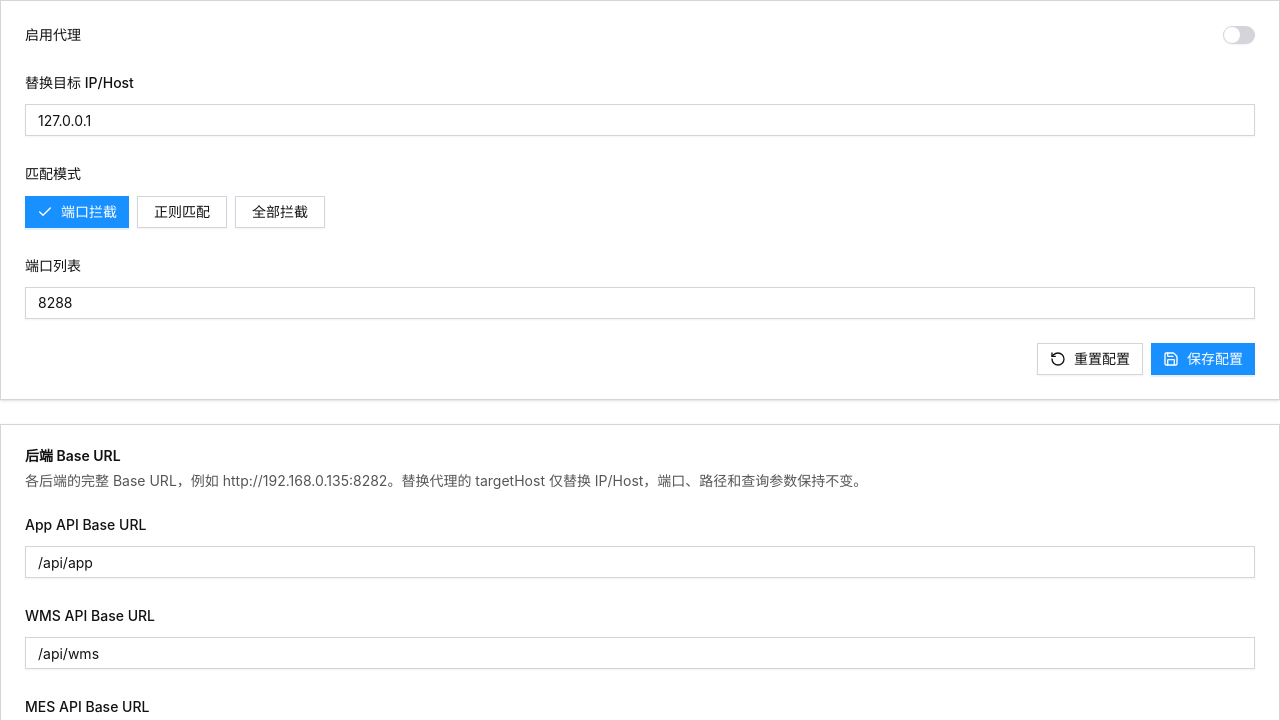
Test case: DebugIpRewriteProxyPage › enables save after all base URLs are changed to absolute HTTP(S) URLs
This screenshot has width=1280, height=720.
Click the switch named "启用代理".
click(1239, 35)  # box [1223,26,1255,44]
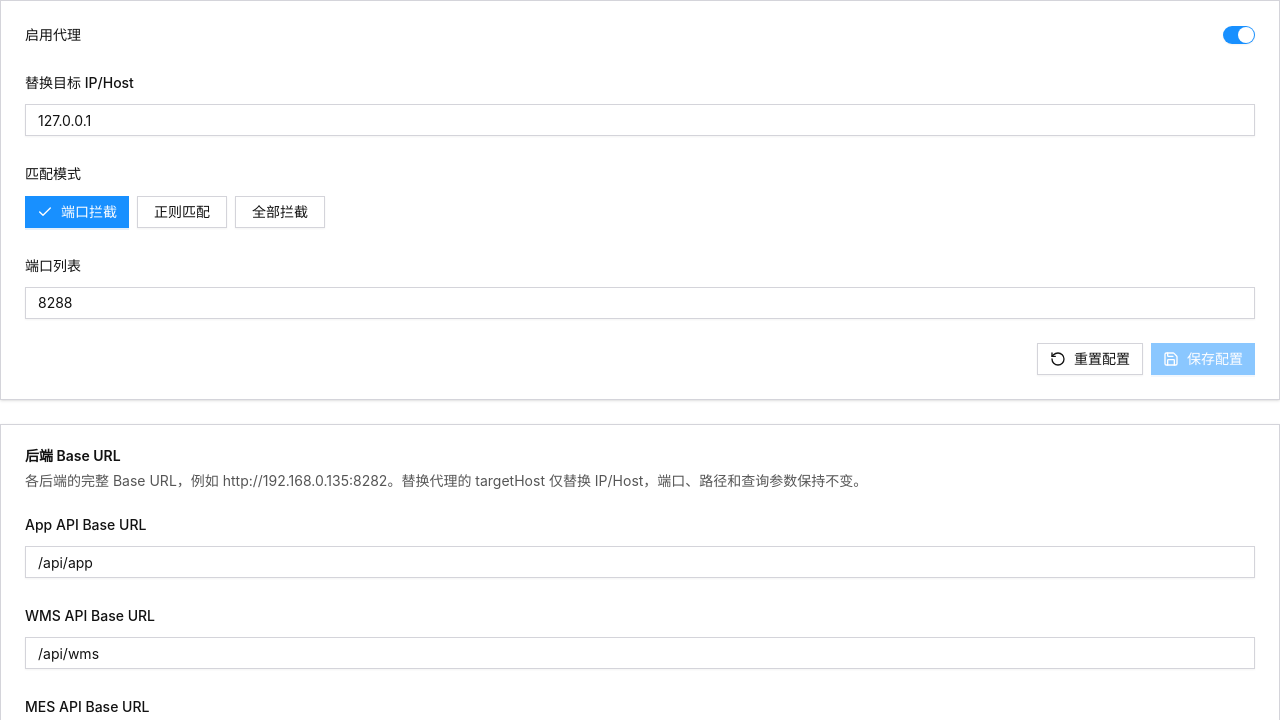
Replace the text in the field labelled "App API Base URL" with "http://192.168.0.135:8288" at (640, 562), box [25,546,1255,578]
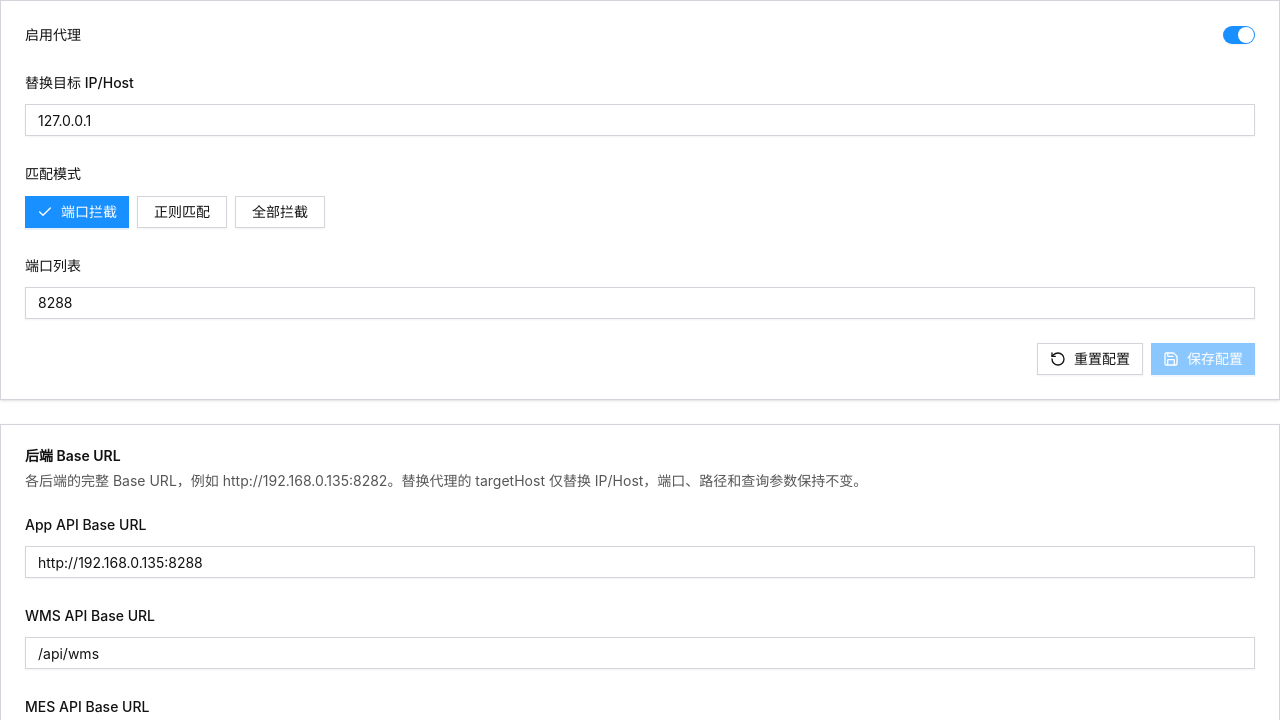
Replace the text in the field labelled "WMS API Base URL" with "http://192.168.0.135:8283" at (640, 653), box [25,637,1255,669]
(page scrolled)
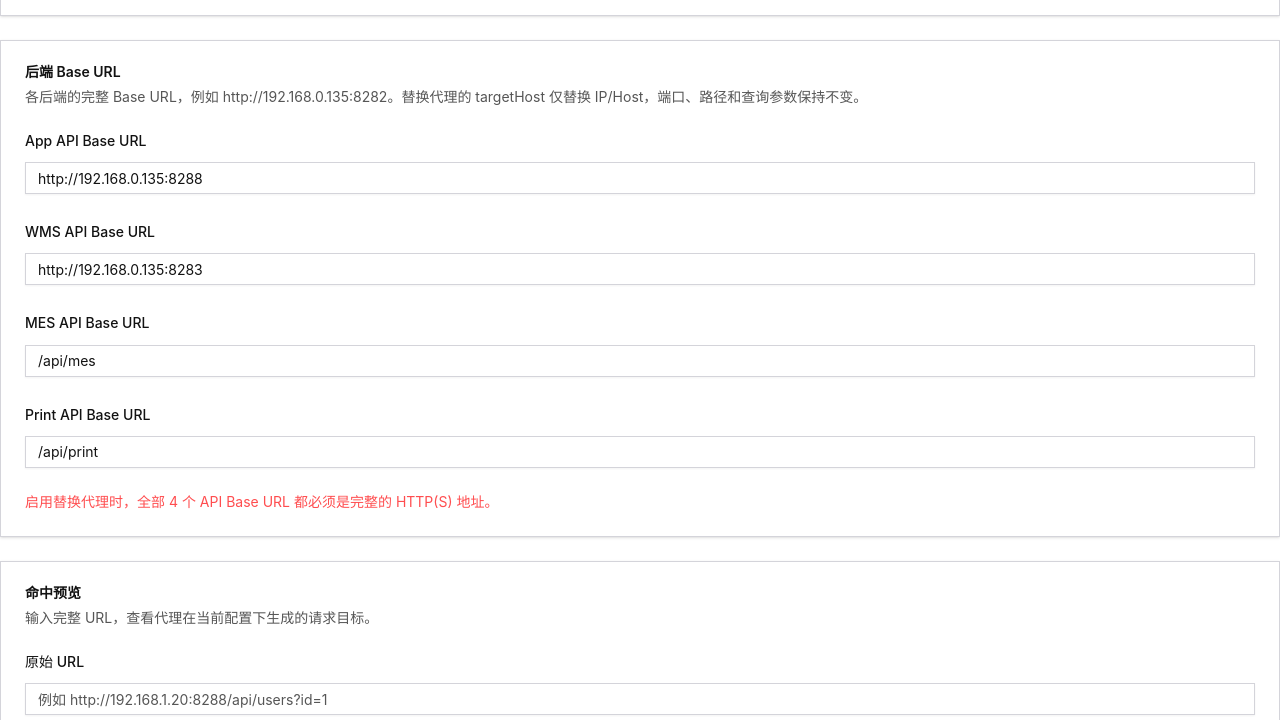
Replace the text in the field labelled "MES API Base URL" with "http://192.168.0.135:8282" at (640, 360), box [25,344,1255,376]
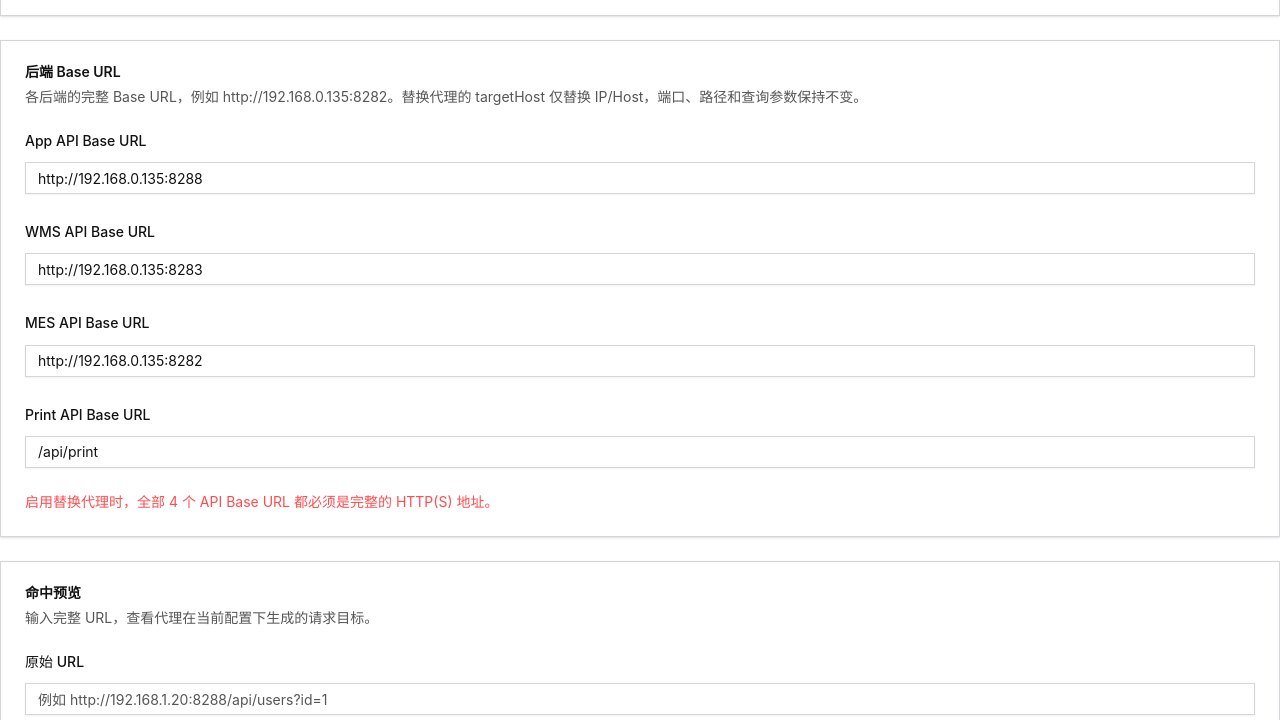
Replace the text in the field labelled "Print API Base URL" with "https://print.example.test" at (640, 452), box [25,436,1255,468]
(page scrolled)
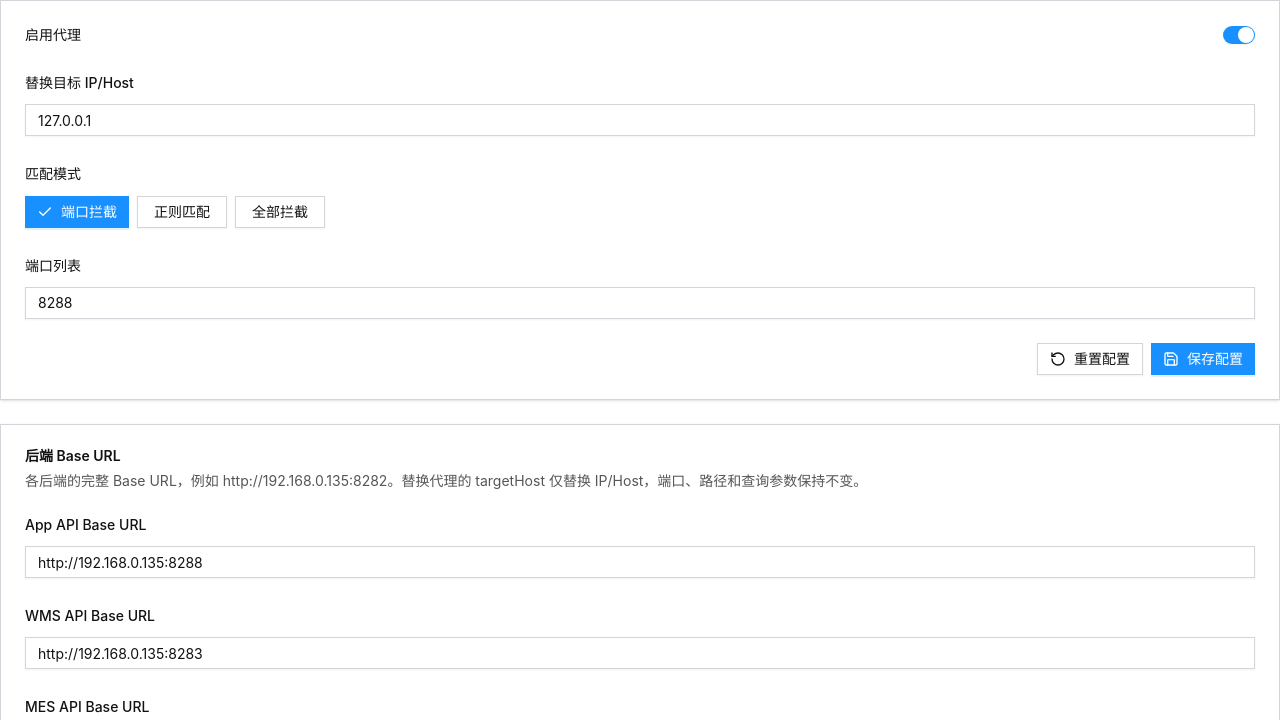
Expected: the message with test id "debug-ip-rewrite-proxy-base-urls-warning" is gone
Expected: the button "保存配置" is enabled, [1151,343,1255,375]
